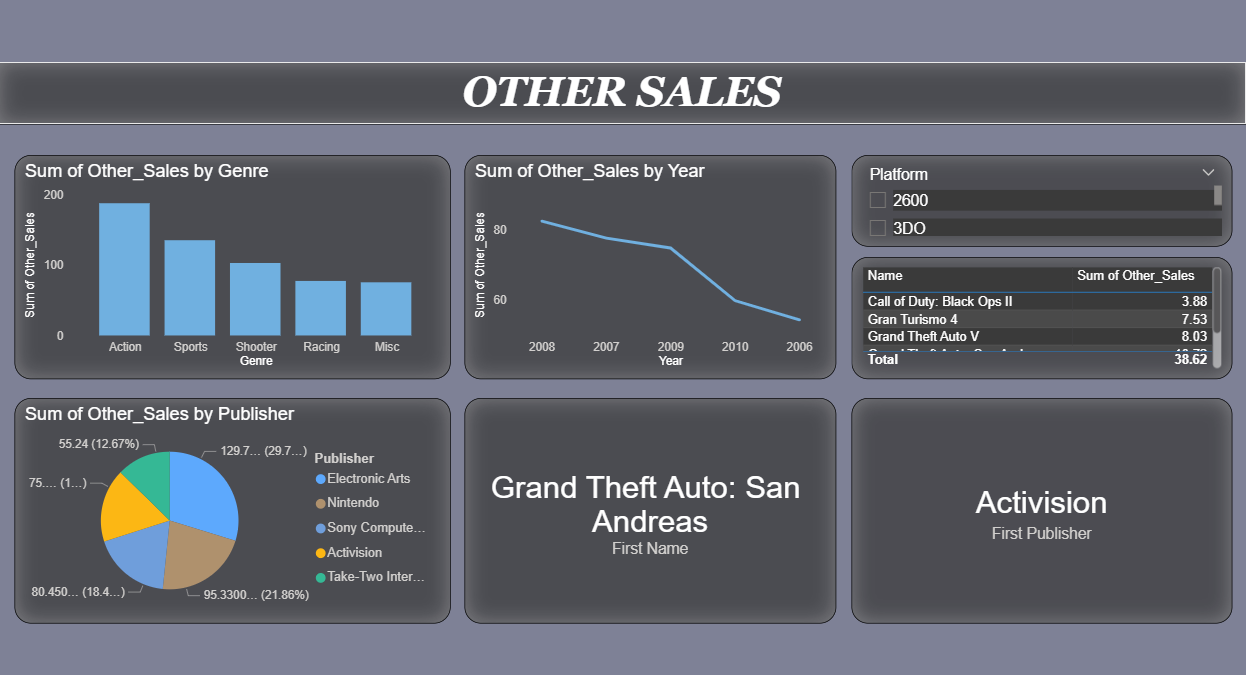

This screenshot's page, from the dashboard's own definition file:
{"tool":"powerbi","page":{"name":"Other Sales","canvas":[1280,720],"ordinal":4},"visuals":[{"type":"clusteredColumnChart","fields":{"Y":["Sum(vgsales xlsx - vgsales.Other_Sales)"],"Category":["vgsales xlsx - vgsales.Genre"]},"box":[17.2,159.4,447,229.8],"z":0},{"type":"lineChart","fields":{"Category":["vgsales xlsx - vgsales.Year"],"Y":["Sum(vgsales xlsx - vgsales.Other_Sales)"]},"box":[478.3,159.4,381.4,229.8],"z":1000},{"type":"pieChart","fields":{"Category":["vgsales xlsx - vgsales.Publisher"],"Y":["Sum(vgsales xlsx - vgsales.Other_Sales)"]},"box":[17.2,409.5,447,231.3],"z":2000},{"type":"slicer","fields":{"Values":["vgsales xlsx - vgsales.Platform"]},"box":[875.3,159.4,390.7,93.8],"z":3000},{"type":"tableEx","fields":{"Values":["vgsales xlsx - vgsales.Name","Sum(vgsales xlsx - vgsales.Other_Sales)"]},"box":[875.3,264.1,390.7,125],"z":4000},{"type":"card","fields":{"Values":["Min(vgsales xlsx - vgsales.Name)"]},"box":[478.3,409.5,381.4,231.3],"z":5000},{"type":"card","fields":{"Values":["Min(vgsales xlsx - vgsales.Publisher)"]},"box":[875.3,409.5,390.7,231.3],"z":6000},{"type":"textbox","box":[0,64,1280,64],"z":7000}]}

Visuals, with their boxes on the page's 1280x720 design canvas (x1, y1, x2, y2). These are canvas units, not pixel positions in the 1246x675 screenshot, which may show the page scaled, cropped or inside an application window:
clusteredColumnChart - Sum(vgsales xlsx - vgsales.Other_Sales) x vgsales xlsx - vgsales.Genre: (17, 159, 464, 389)
lineChart - vgsales xlsx - vgsales.Year x Sum(vgsales xlsx - vgsales.Other_Sales): (478, 159, 860, 389)
pieChart - vgsales xlsx - vgsales.Publisher x Sum(vgsales xlsx - vgsales.Other_Sales): (17, 410, 464, 641)
slicer - vgsales xlsx - vgsales.Platform: (875, 159, 1266, 253)
tableEx - vgsales xlsx - vgsales.Name x Sum(vgsales xlsx - vgsales.Other_Sales): (875, 264, 1266, 389)
card - Min(vgsales xlsx - vgsales.Name): (478, 410, 860, 641)
card - Min(vgsales xlsx - vgsales.Publisher): (875, 410, 1266, 641)
textbox: (0, 64, 1280, 128)
